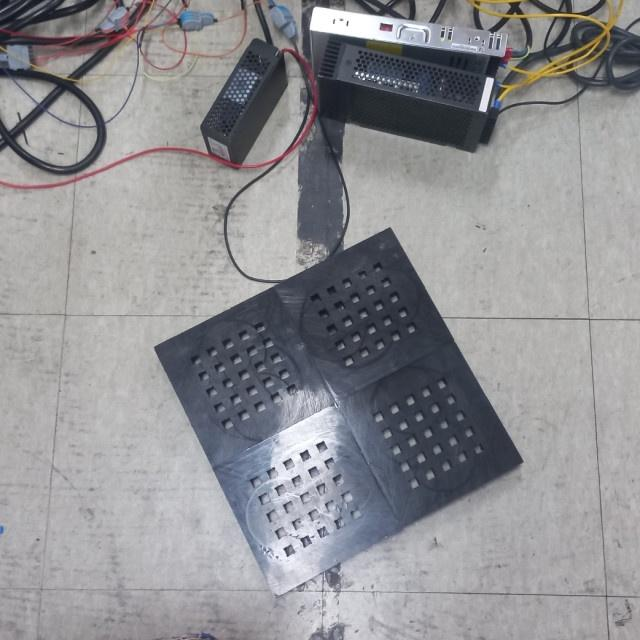pallet: (149, 224, 527, 600)
